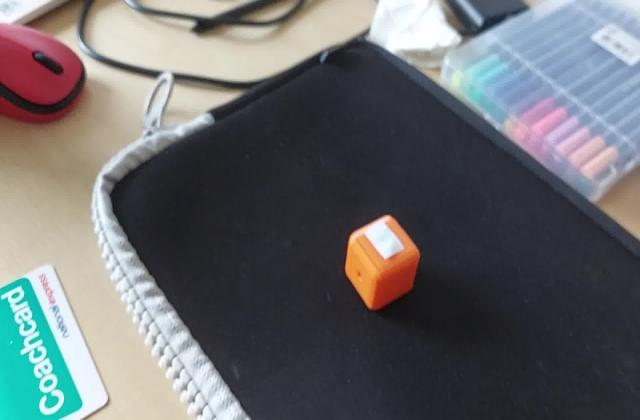sticker: (342, 211, 422, 311)
white: (366, 228, 408, 260)
